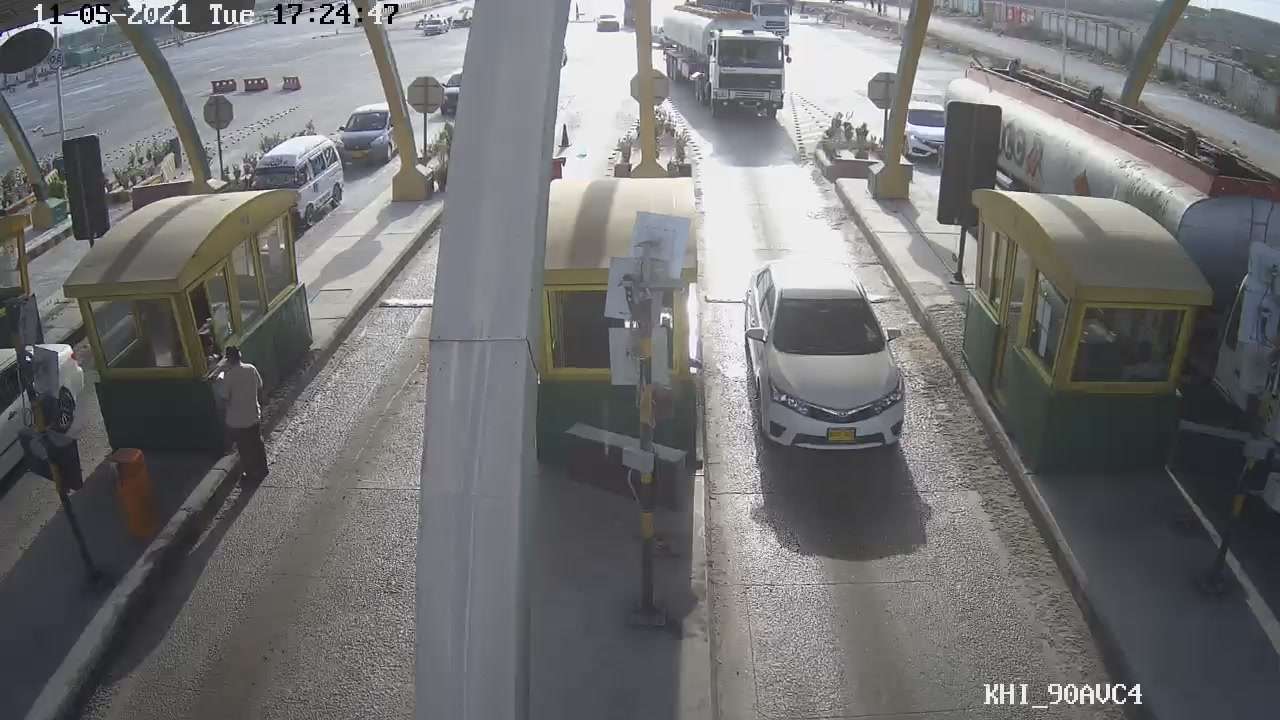F1: (722, 259, 933, 459)
